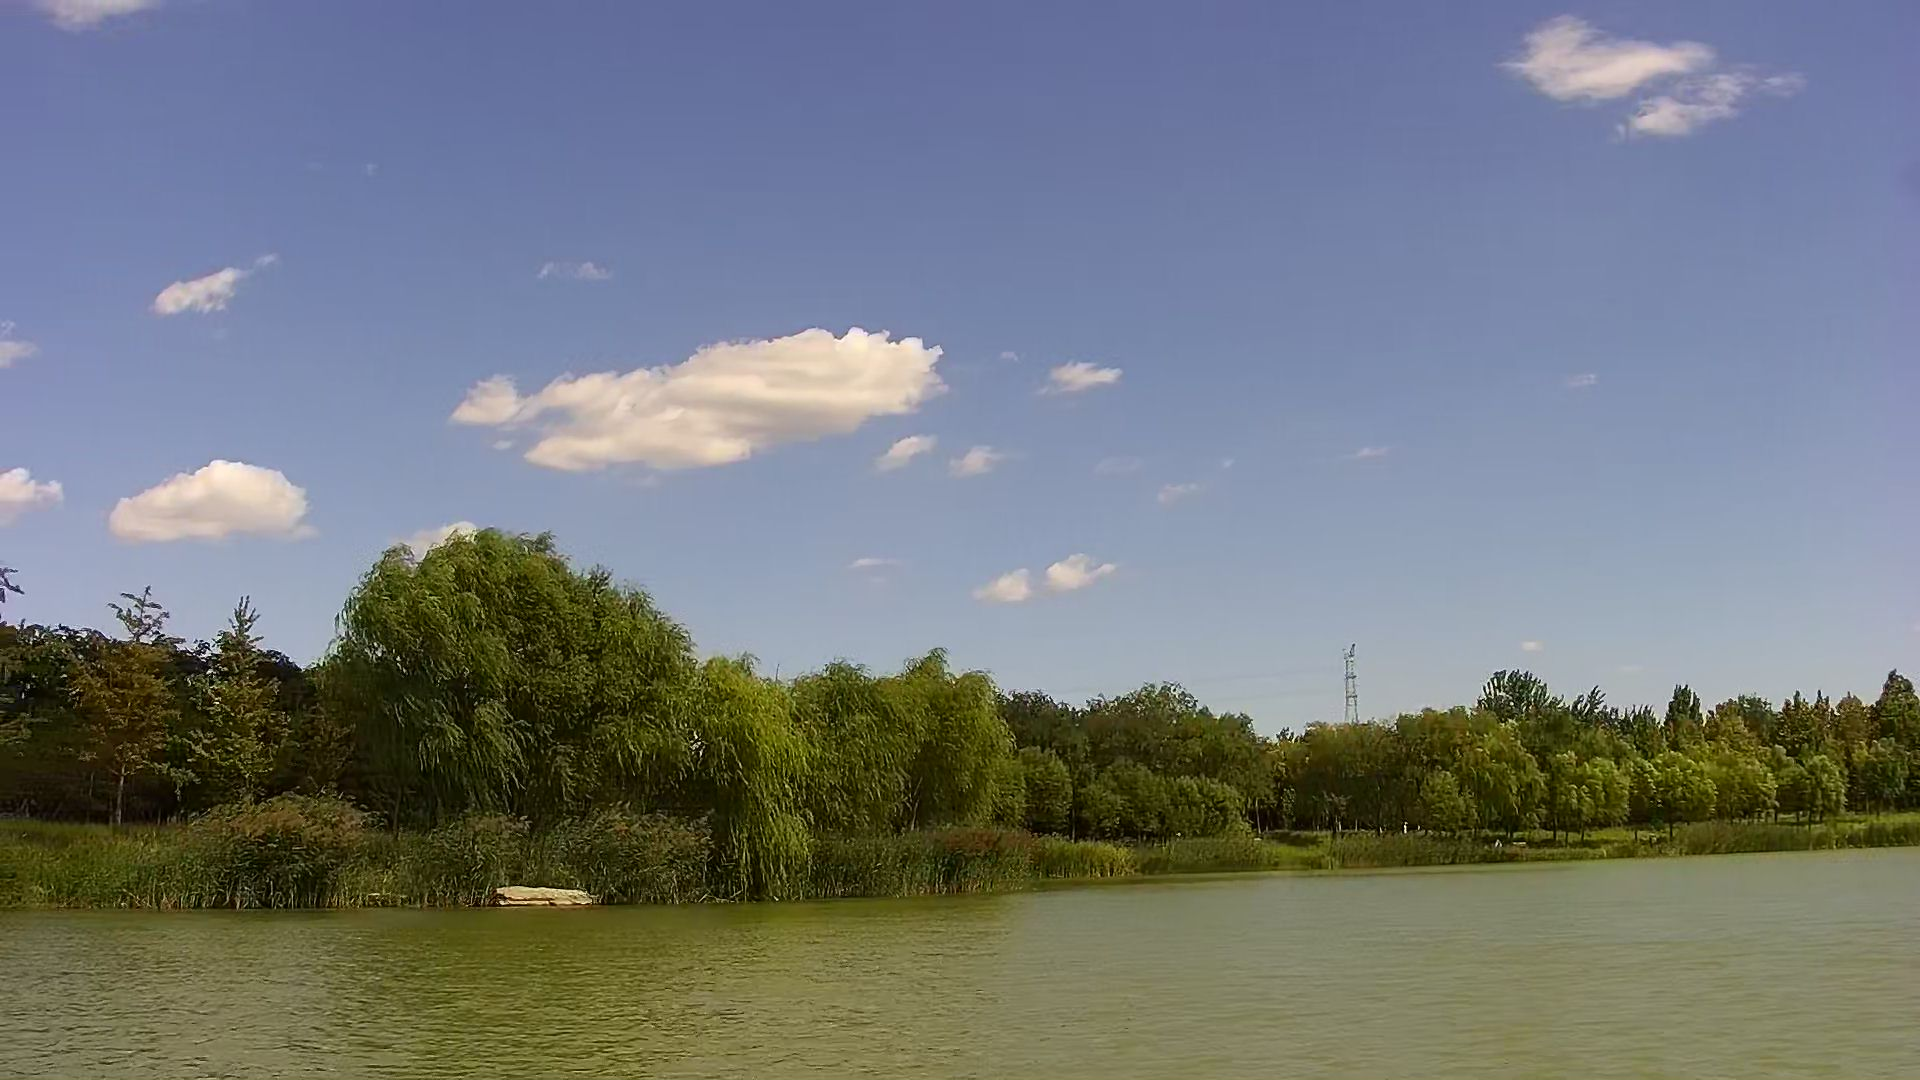rock: (491, 880, 585, 905)
